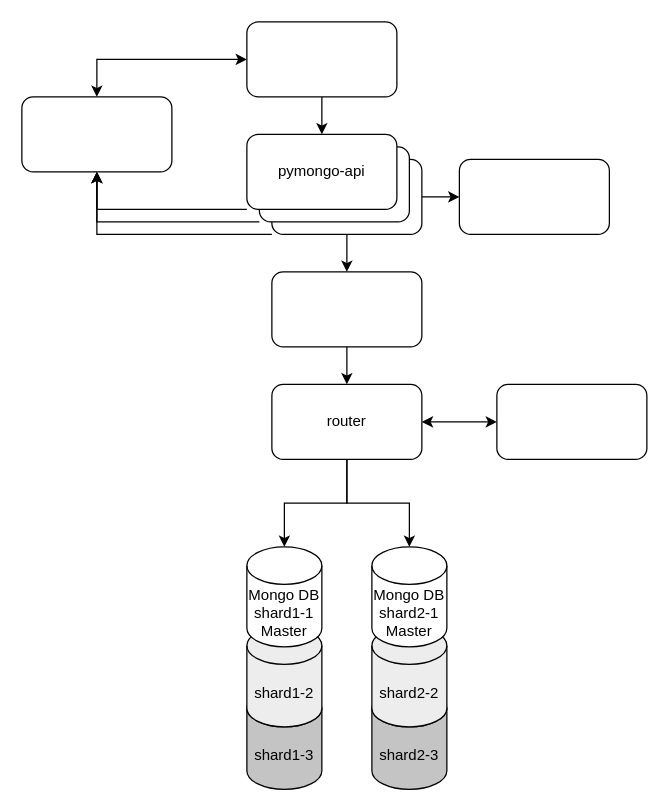
Image size: 669x811. Some labels were removed from this diagram. Here are the shapes that lost their labels. From the top down, the centre of each, then its label:
the point at 321,59: Nginx API Gateway
the point at 96,134: Consul
the point at 533,196: redis
the point at 346,309: driver
the point at 571,421: configSrv
